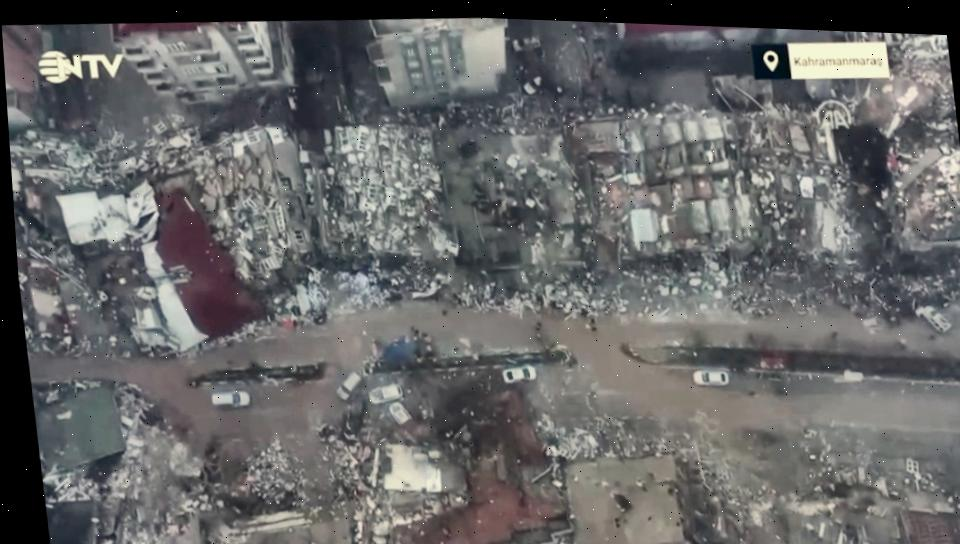kapali: (20, 278, 374, 383), (296, 361, 595, 470), (32, 385, 220, 477)
